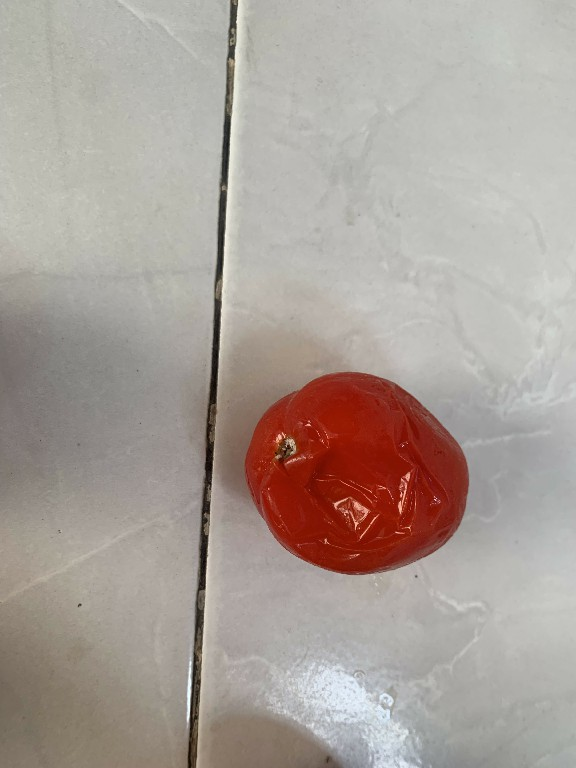NG: (232, 365, 480, 581)
